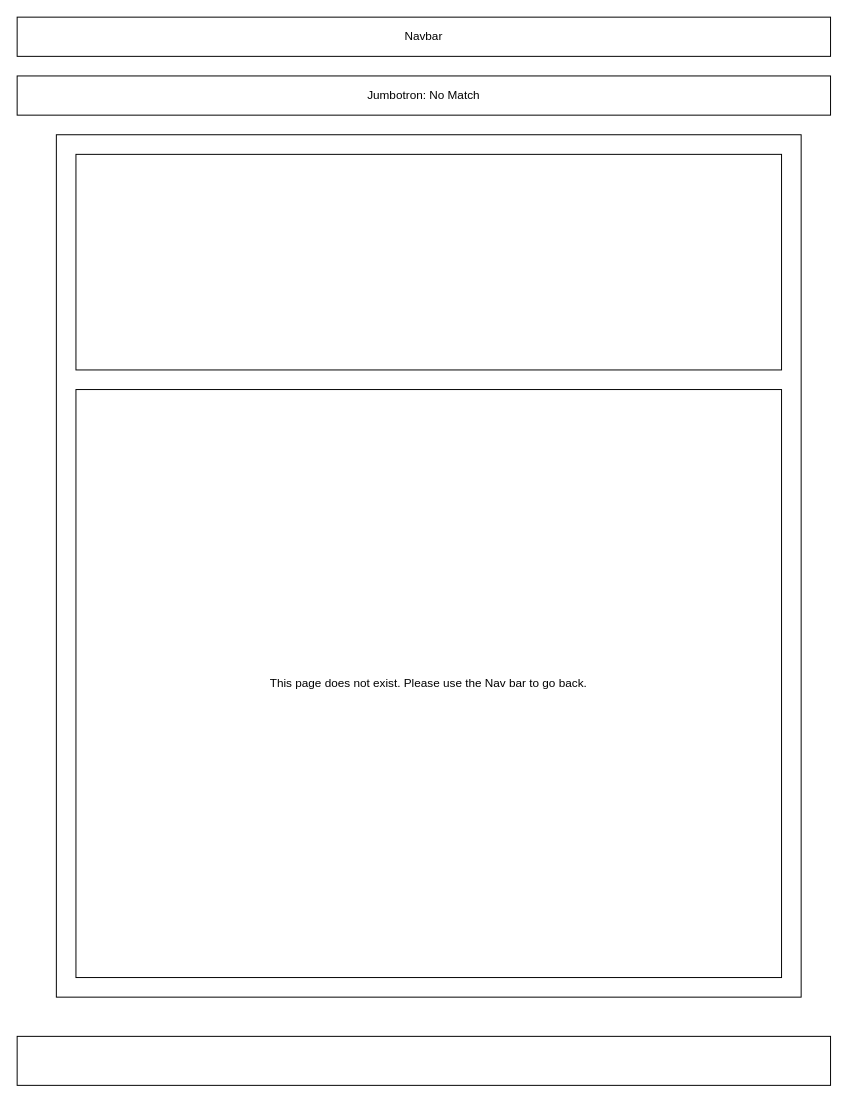
The diagram is 848 pixels wide and 1103 high, and some of its shapes have lost their labels. Here are the shapes that lost their labels. From the top down, the centre of each, then its label:
At [428,261]: "Picture of someone mid fall".
At [423,1060]: "Footer: icons for people we are using".
